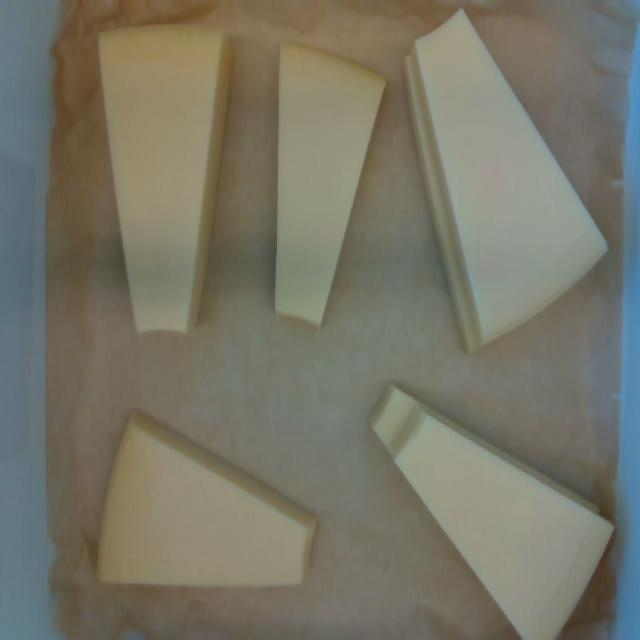Cheese: (415, 7, 609, 339), (393, 414, 614, 639), (101, 27, 222, 331), (99, 416, 315, 584), (275, 44, 384, 324)
